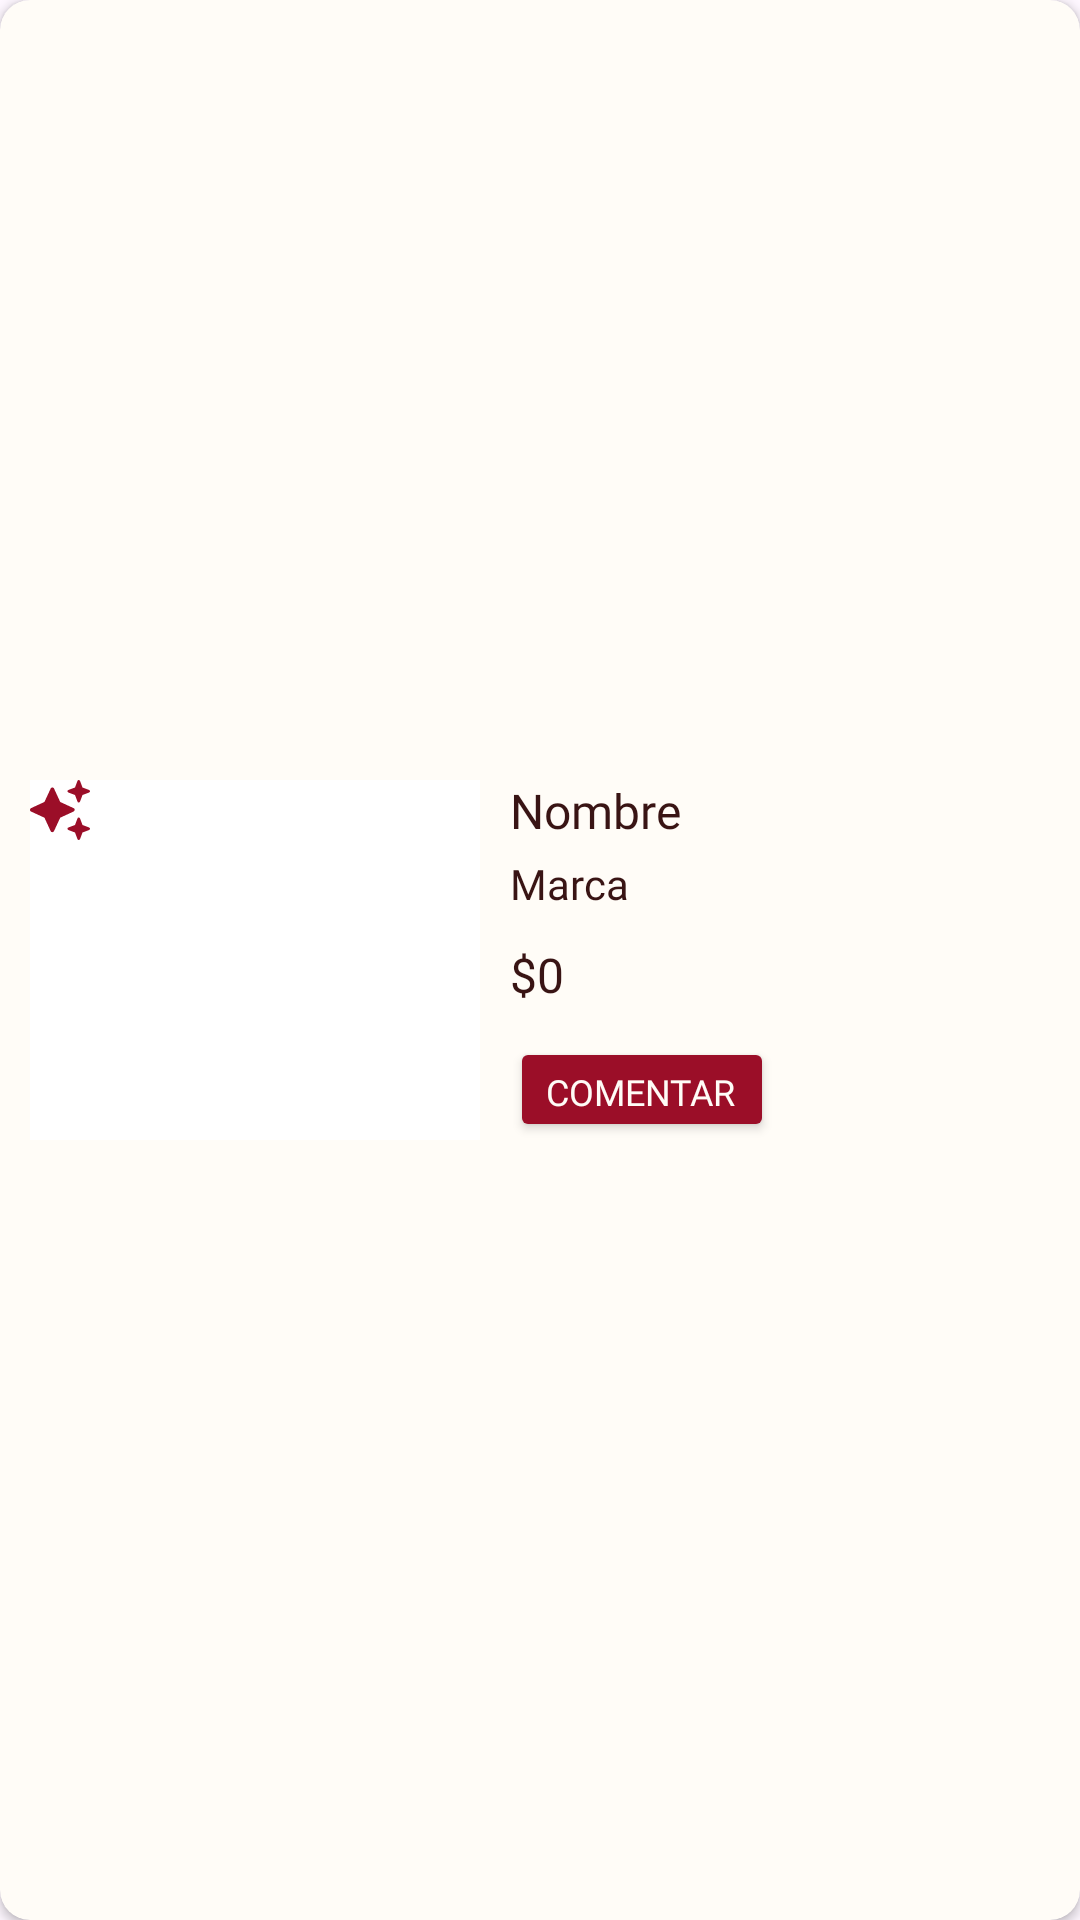

Screen size 1080 × 1920. Icon name, then its box in pixels as [x1, y1, x2, y2]:
sparkles: [30, 780, 90, 840]
